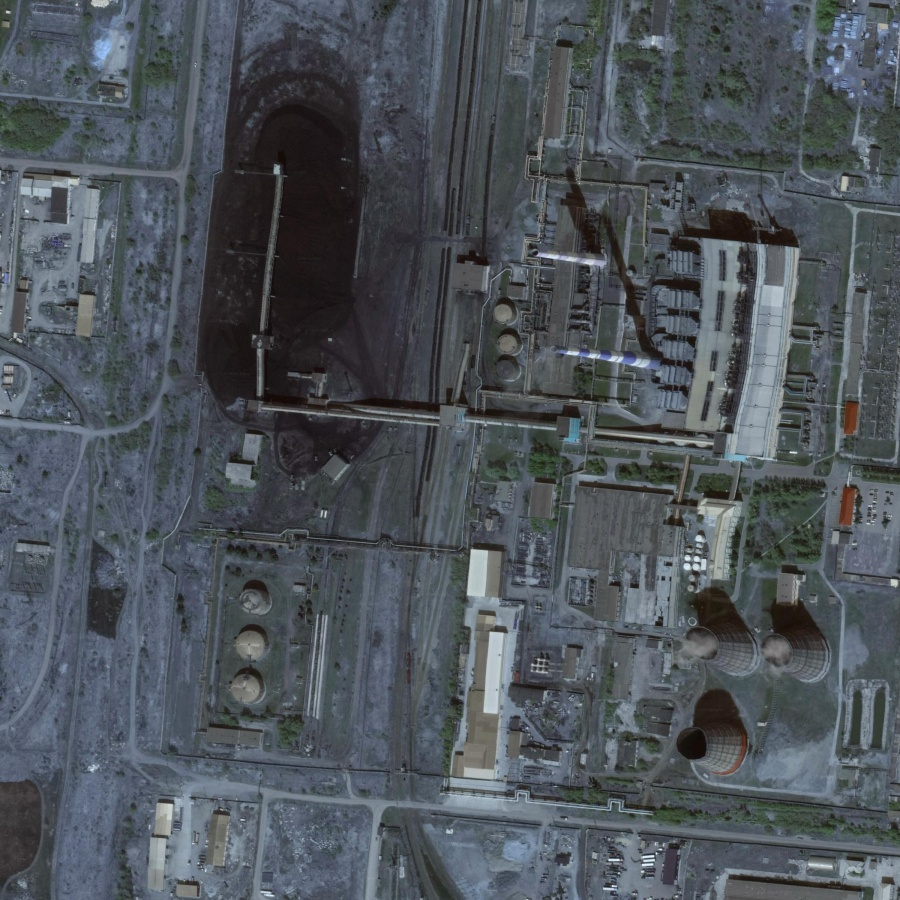PowerPlant: (188, 69, 506, 478), (512, 156, 701, 418), (668, 558, 857, 813), (190, 522, 338, 764)
